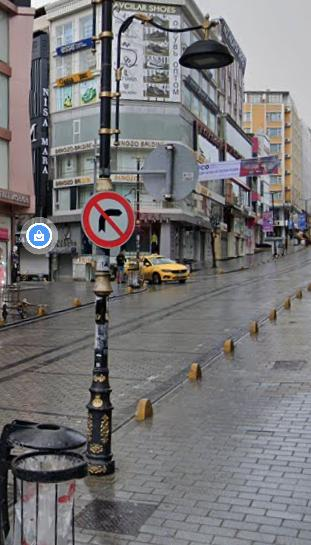rightturnsareforbidden: (83, 192, 135, 245)
